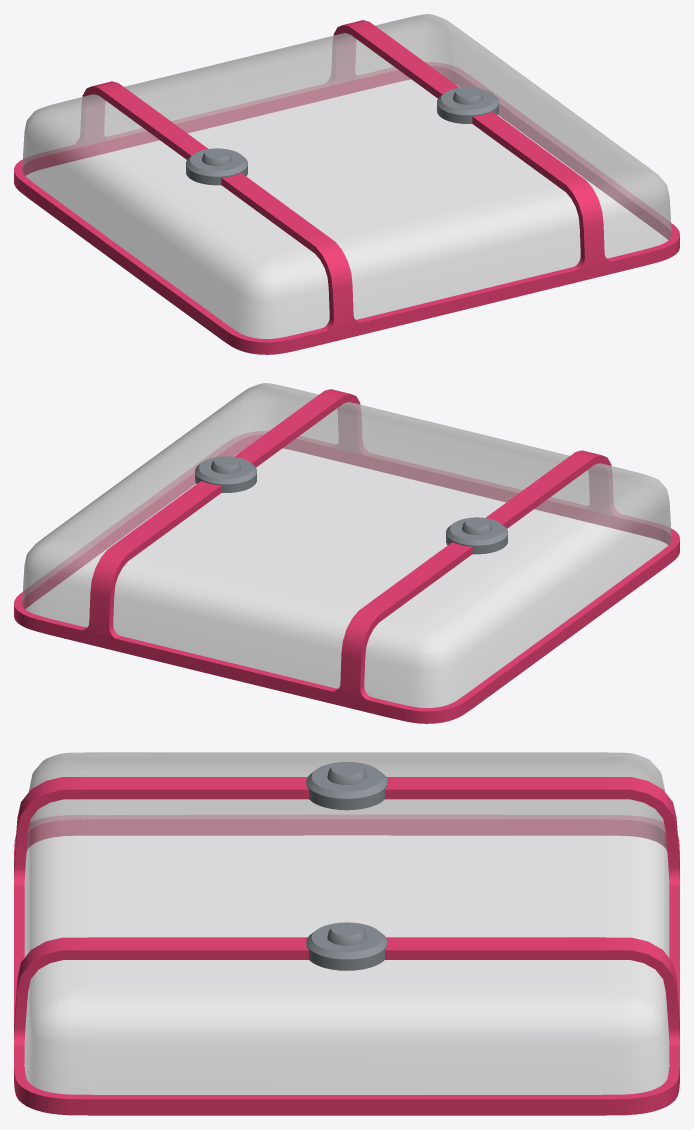
Rendered from hop_vuong.fbx.
3 renders of one model, top to bottom at view 1: azimuth 30°, elevation 25°; view 2: azimuth 150°, elevation 25°; view 3: azimuth 270°, elevation 25°, orthographic. The views are drawn at different scales.
Parts seen in each view (by area): view 1: Cube.005, Cube.008, Cylinder.164, Cylinder.159; view 2: Cube.005, Cube.008, Cylinder.164, Cylinder.159; view 3: Cube.005, Cube.008, Cylinder.159, Cylinder.164.
Part boxes in pixels (x1,y1,x2,y2): Cube.005: (22,14,671,338); Cube.008: (14,20,679,354); Cylinder.164: (186,148,247,185); Cylinder.159: (437,87,498,123); Cube.005: (22,383,671,707); Cube.008: (14,389,679,723); Cylinder.164: (446,517,507,554); Cylinder.159: (195,456,256,492); Cube.005: (24,752,669,1094); Cube.008: (14,777,679,1115); Cylinder.159: (306,922,387,970); Cylinder.164: (306,762,387,810).
Size of the model in its own units: 377 by 75 by 373.
